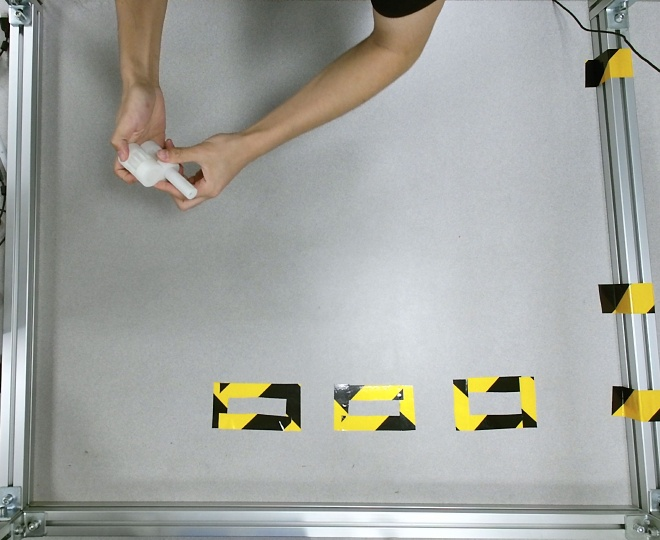stage_4: (118, 140, 199, 202)
